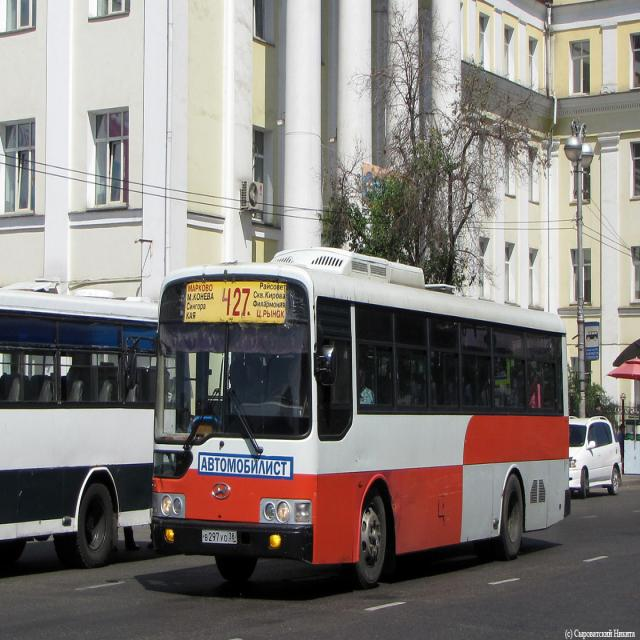number-of-bus: (221, 285, 254, 321)
